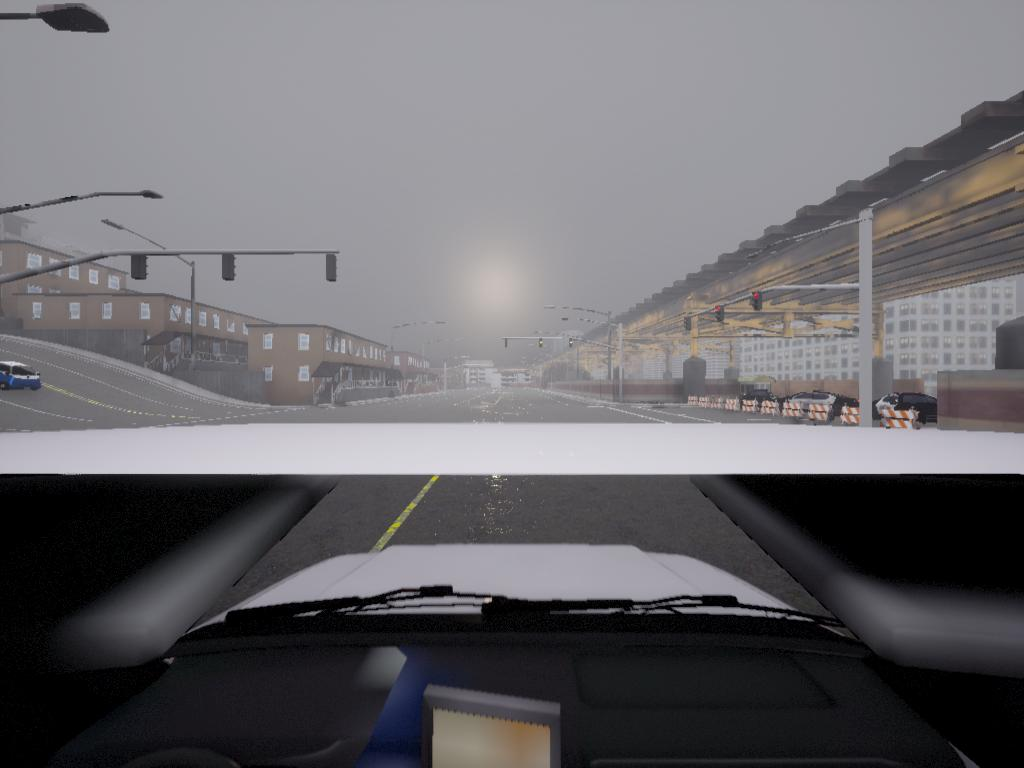traffic_light: (221, 253, 239, 283), (130, 256, 150, 281), (325, 254, 339, 283), (754, 292, 765, 312), (716, 308, 725, 323), (684, 317, 693, 331), (538, 336, 546, 349), (568, 338, 575, 350), (505, 338, 510, 350)
